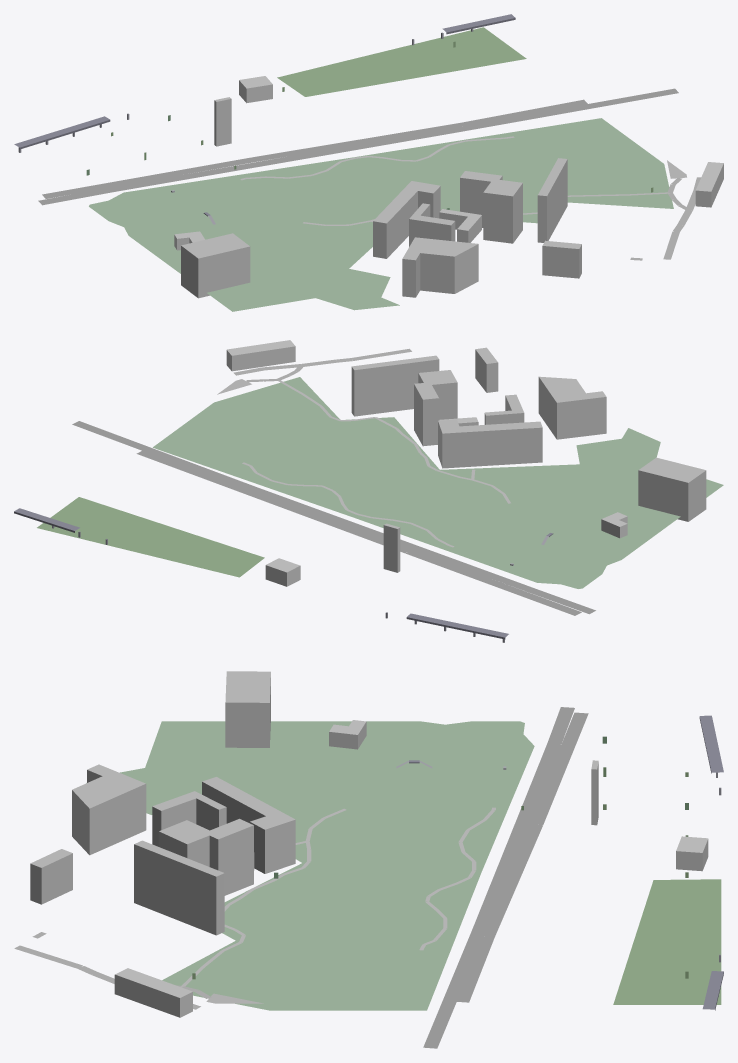
3 renders of one model, top to bottom at view 1: azimuth 30°, elevation 25°; view 2: azimuth 150°, elevation 25°; view 3: azimuth 270°, elevation 25°, orthographic. The views are drawn at different scales.
Bounding box in the file's own units: 614 × 53.57 × 518.
